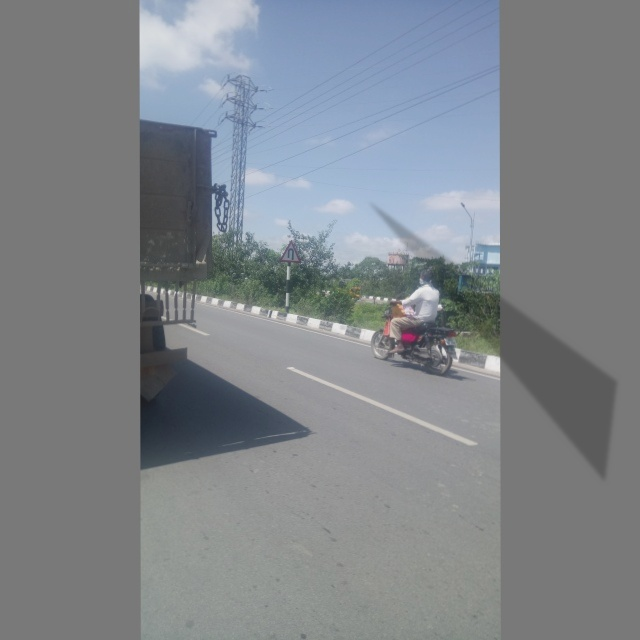U_Turn_Ahead: (275, 235, 307, 269)
